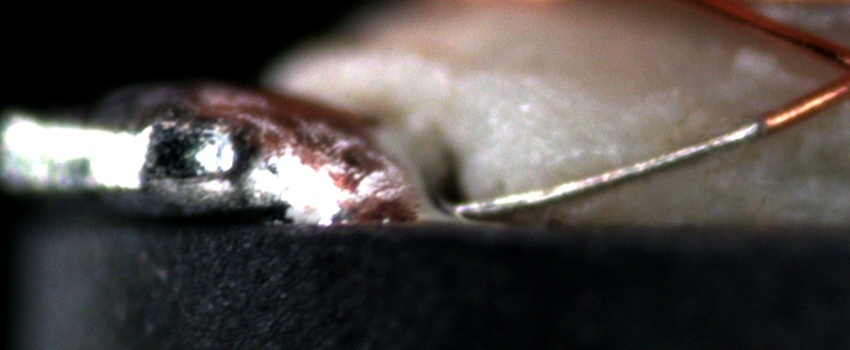CL: (810, 37, 850, 107)
DL: (521, 130, 632, 172)
TS: (461, 118, 766, 215)
